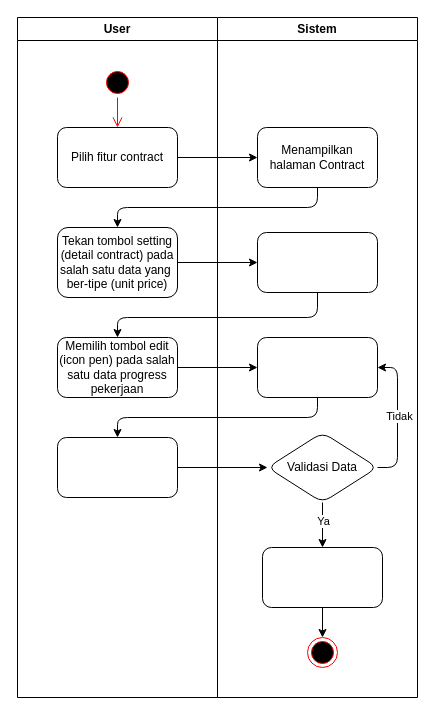
The diagram is 435 pixels wide and 715 high, and some of its shapes have lost their labels. The shapes that lost their labels are listed below. From the top down, each one's centre as x and y in pixels, then its label:
At [317,262]: "Menampilkan detail contract beserta progress pekerjaan-nya".
At [317,367]: "Menampilkan isi formulir edit data progress pekerjaan".
At [117,467]: "Edit data progress pekerjaan".
At [322,577]: "Menyimpan perubahan data progress pekerjaan".
